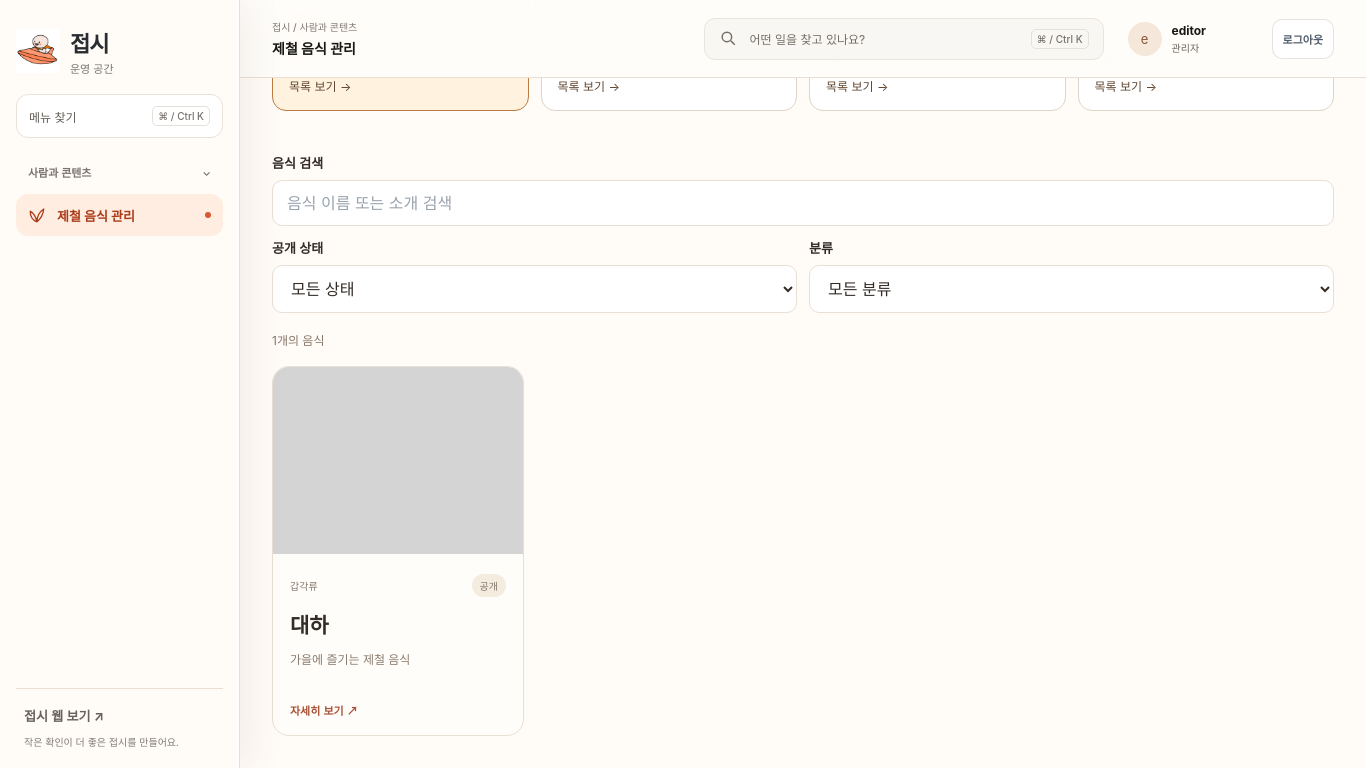
Test: deletes only after confirmation and removes the saved item
(page scrolled)
Click the button "갑각류 공개 대하 가을에 즐기는 제철 음식 자세히 보기 ↗": (398, 551) [272,366,524,736]
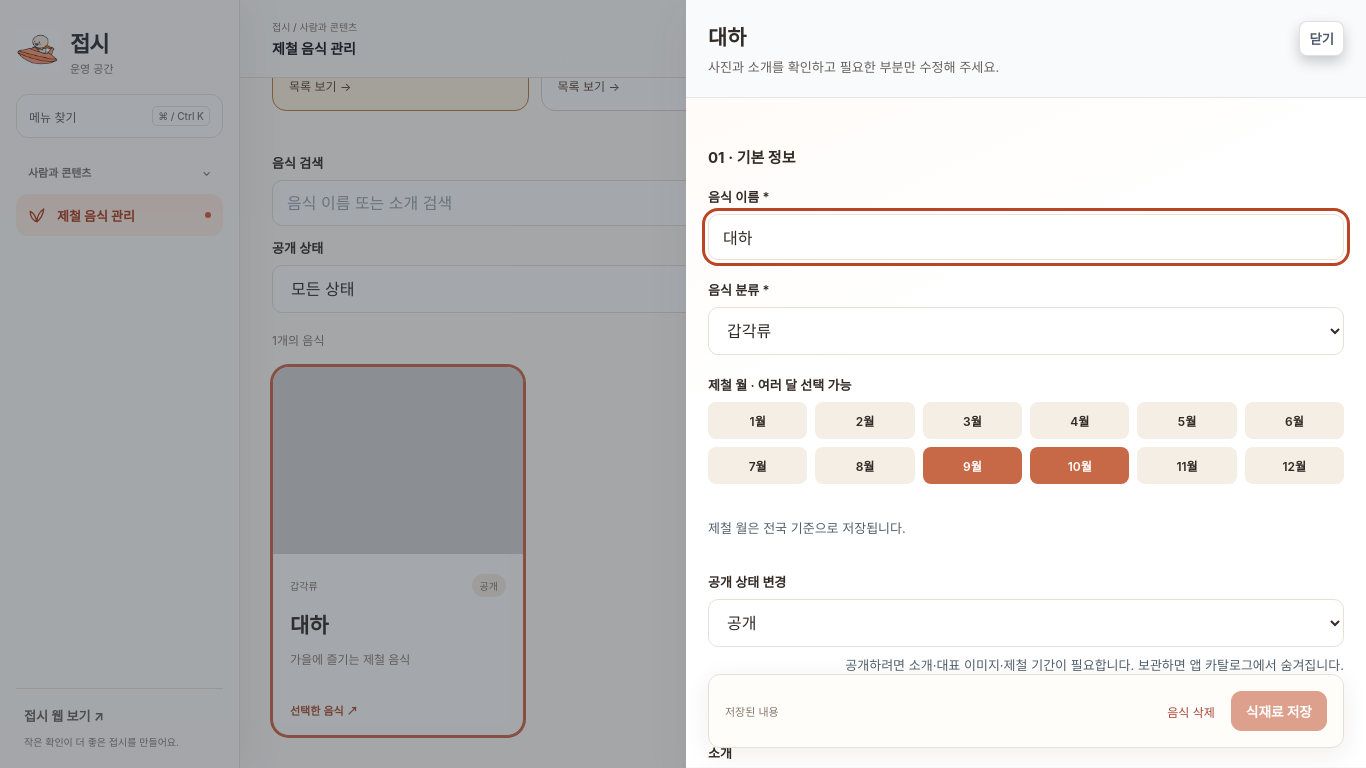
Click the button "음식 삭제": (1191, 711) [1161,691,1221,731]
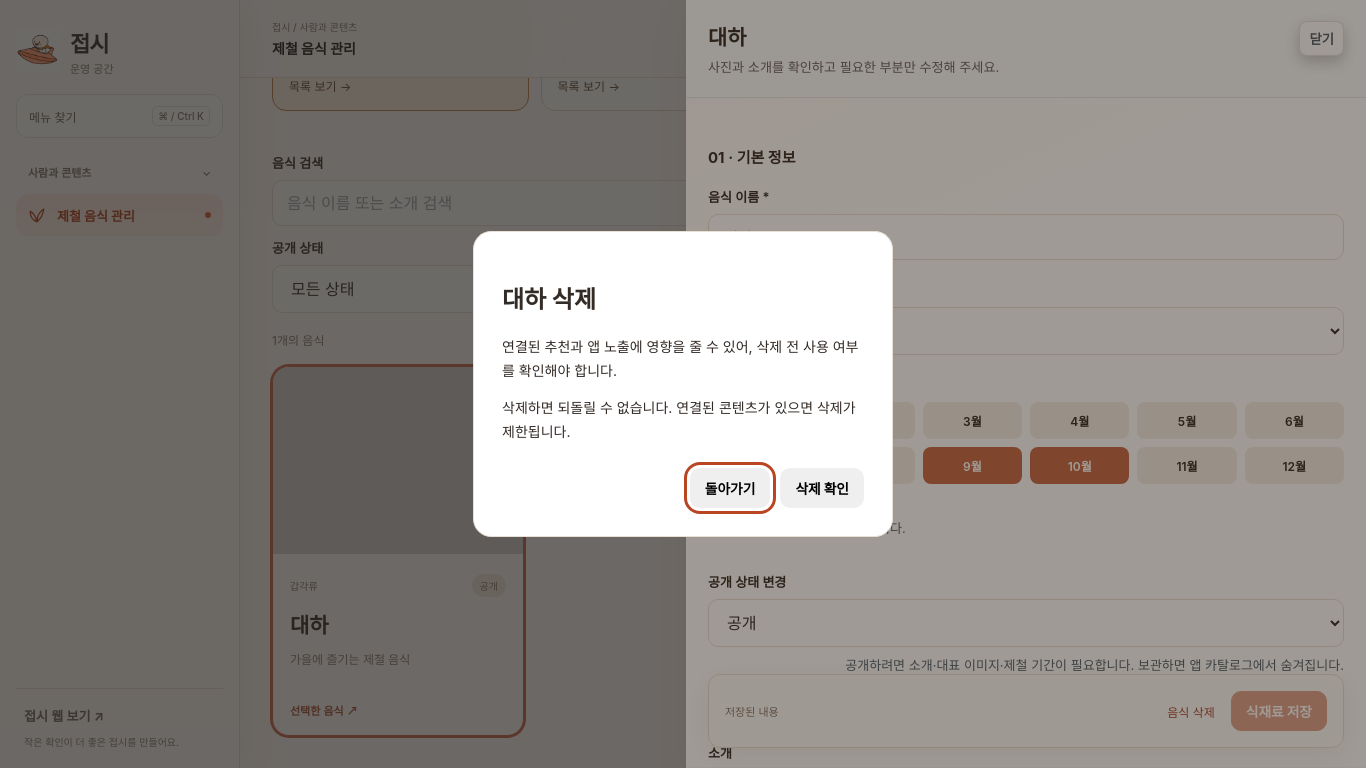
Expected: the dialog "대하 삭제" is shown, [473,231,893,537]
Click the button "돌아가기": (730, 488) [690,468,770,508]
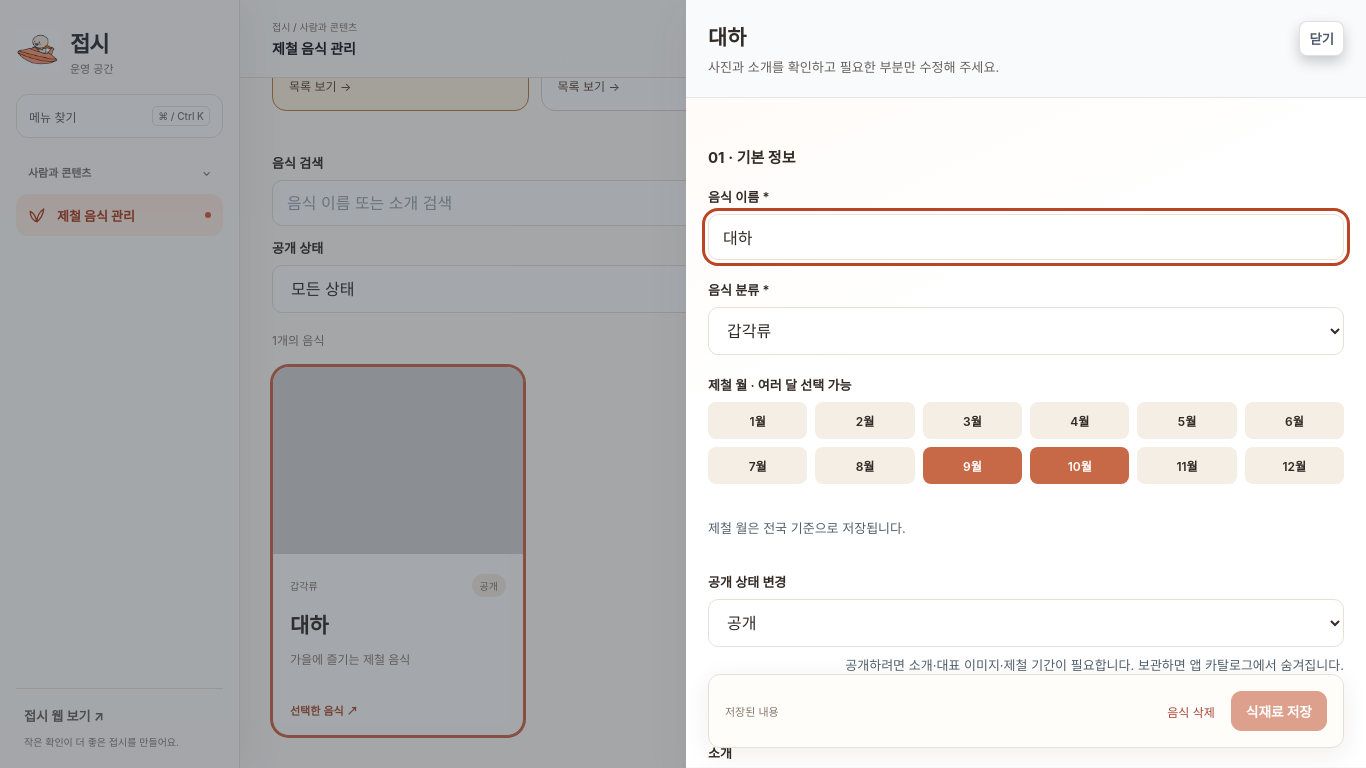
Click the button "음식 삭제": (1191, 711) [1161,691,1221,731]
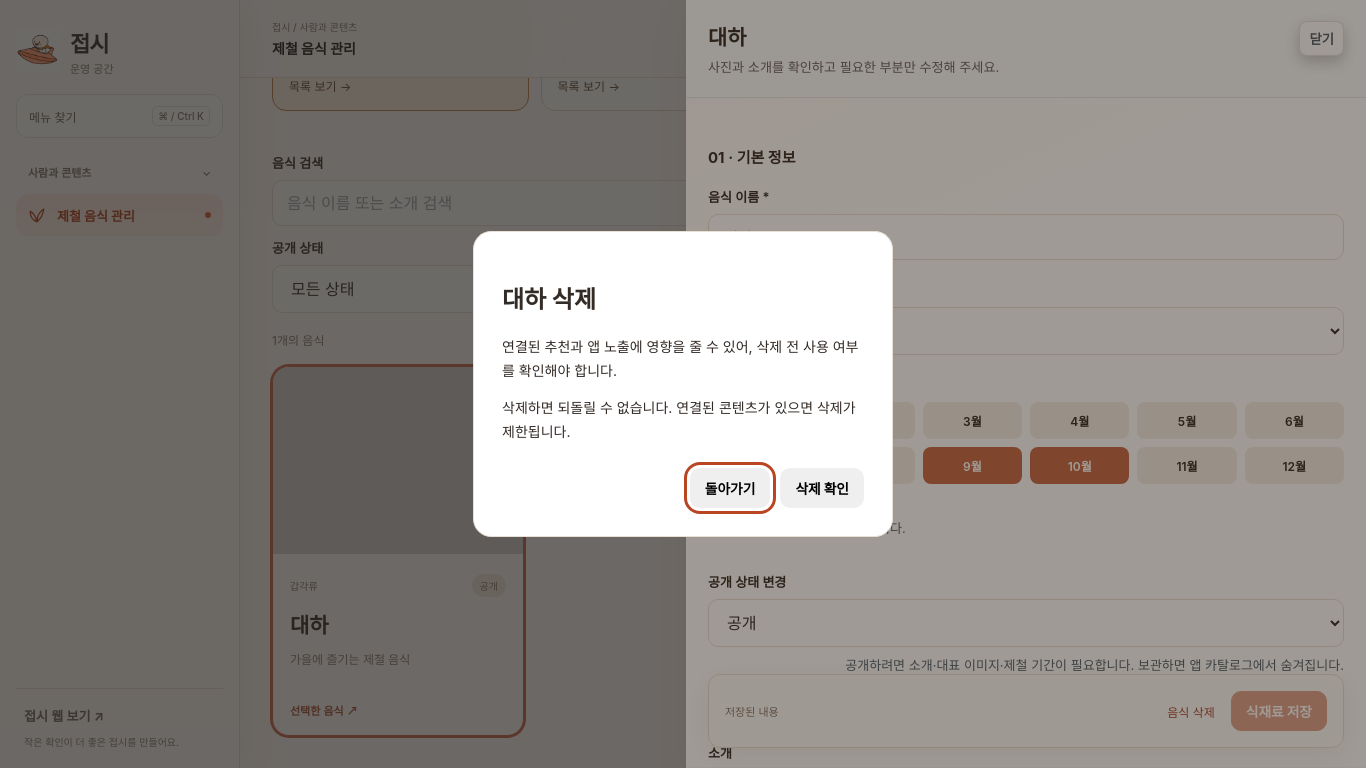
Click the button "삭제 확인": (822, 488) [780,468,864,508]
(page scrolled)
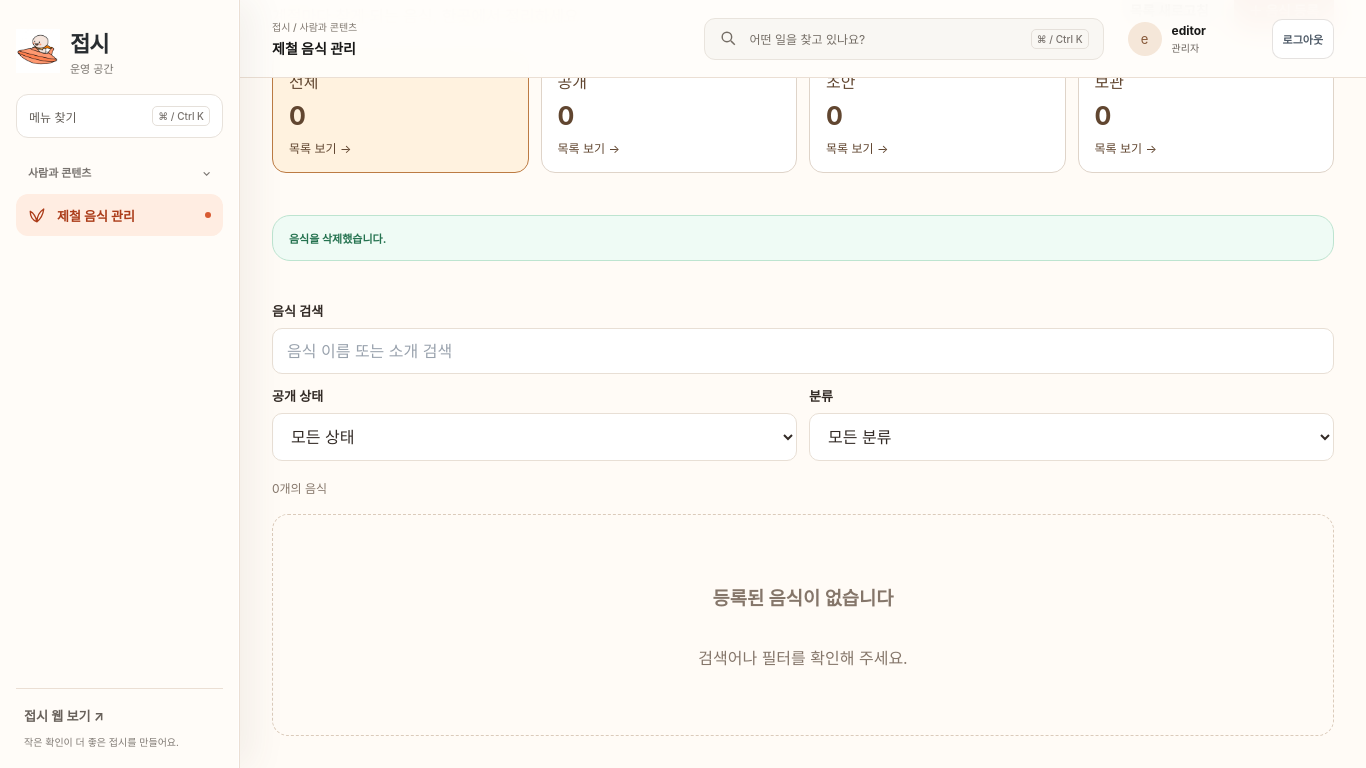
Expected: the text "음식을 삭제했습니다." is shown, [272,215,1334,261]
